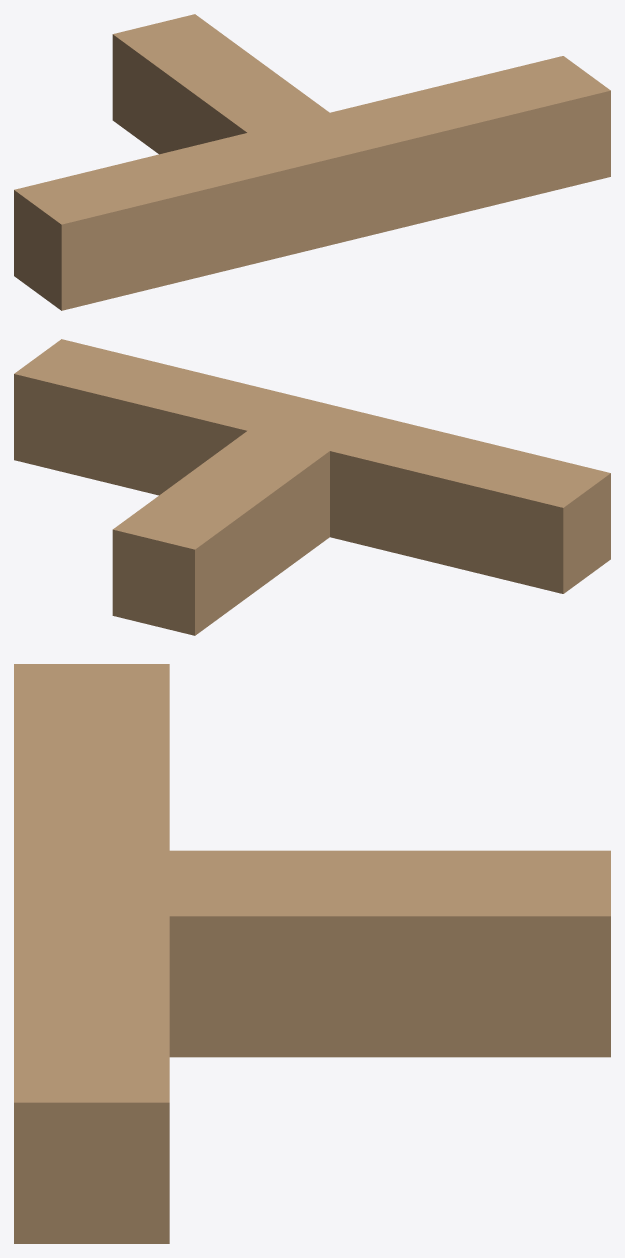
Rendered from Prop_Water_AMF_PipeTee_V6.glb.
The picture shows the model from 3 angles, top to bottom: view 1: azimuth 30°, elevation 25°; view 2: azimuth 150°, elevation 25°; view 3: azimuth 270°, elevation 25°; orthographic projection. The views are drawn at different scales.
Parts seen in each view (by area): view 1: Prop_Water_AMF_PipeTee_V6; view 2: Prop_Water_AMF_PipeTee_V6; view 3: Prop_Water_AMF_PipeTee_V6.
Part boxes in pixels (box(x1,y1,x2,y2)): Prop_Water_AMF_PipeTee_V6: box(14, 14, 610, 310); Prop_Water_AMF_PipeTee_V6: box(14, 339, 610, 635); Prop_Water_AMF_PipeTee_V6: box(14, 664, 610, 1243).
Size of the model in its own units: 1 by 0.15 by 0.575.
